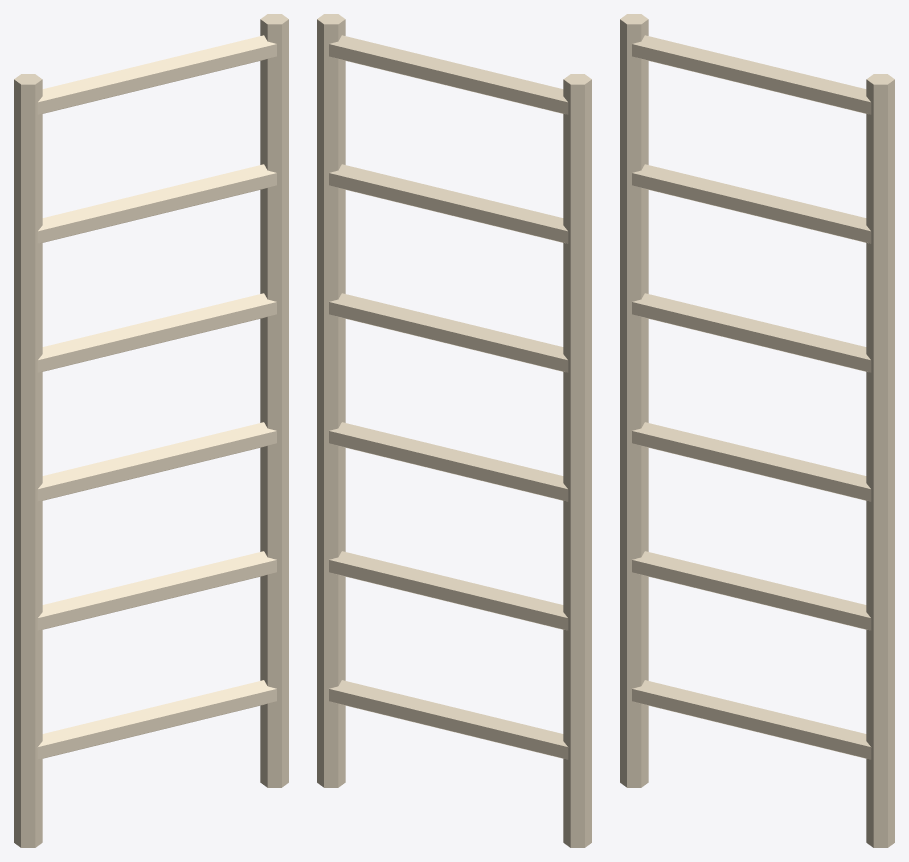
3 views of the same model, side by side, from view 1: azimuth 30°, elevation 25°; view 2: azimuth 150°, elevation 25°; view 3: azimuth 330°, elevation 25° (orthographic).
Parts seen in each view (by area): view 1: Rail, Rail.001, Rung.001, Rung.002, Rung.003, Rung.004, Rung.005, Rung; view 2: Rail, Rail.001, Rung.001, Rung.002, Rung.003, Rung.004, Rung.005, Rung; view 3: Rail.001, Rail, Rung.001, Rung.002, Rung.003, Rung.004, Rung.005, Rung.
Part boxes in pixels (bbox=[...]): Rail: bbox=[14, 74, 42, 847]; Rail.001: bbox=[260, 14, 288, 787]; Rung.001: bbox=[37, 551, 276, 630]; Rung.002: bbox=[37, 422, 276, 501]; Rung.003: bbox=[37, 293, 276, 372]; Rung.004: bbox=[37, 164, 276, 243]; Rung.005: bbox=[37, 35, 276, 114]; Rung: bbox=[37, 680, 276, 759]; Rail: bbox=[563, 74, 591, 847]; Rail.001: bbox=[317, 14, 345, 787]; Rung.001: bbox=[329, 551, 568, 630]; Rung.002: bbox=[329, 422, 568, 501]; Rung.003: bbox=[329, 293, 568, 372]; Rung.004: bbox=[329, 164, 568, 243]; Rung.005: bbox=[329, 35, 568, 114]; Rung: bbox=[329, 680, 568, 759]; Rail.001: bbox=[866, 74, 894, 847]; Rail: bbox=[620, 14, 648, 787]; Rung.001: bbox=[632, 551, 871, 630]; Rung.002: bbox=[632, 422, 871, 501]; Rung.003: bbox=[632, 293, 871, 372]; Rung.004: bbox=[632, 164, 871, 243]; Rung.005: bbox=[632, 35, 871, 114]; Rung: bbox=[632, 680, 871, 759].
Bounding box in the file's own units: 54.33 × 148 × 5.
